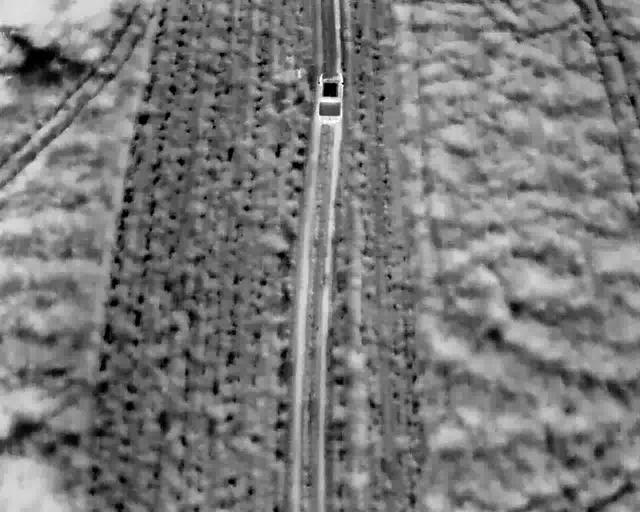car: (316, 72, 344, 123)
